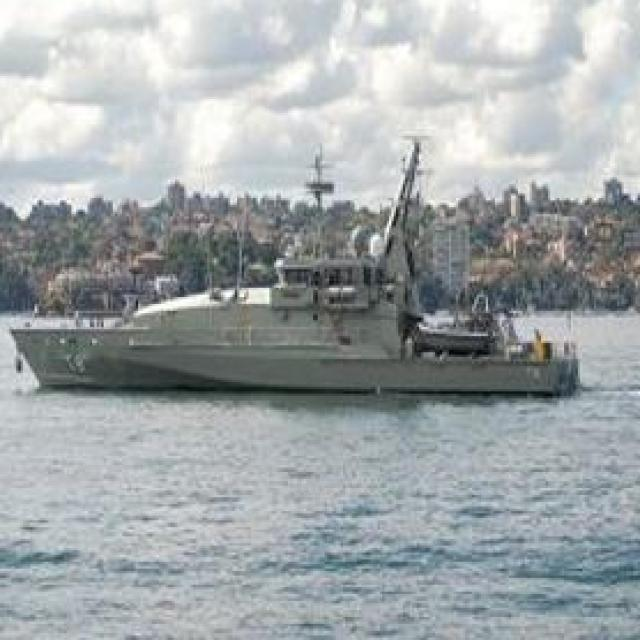navalvessels: (11, 134, 589, 402)
